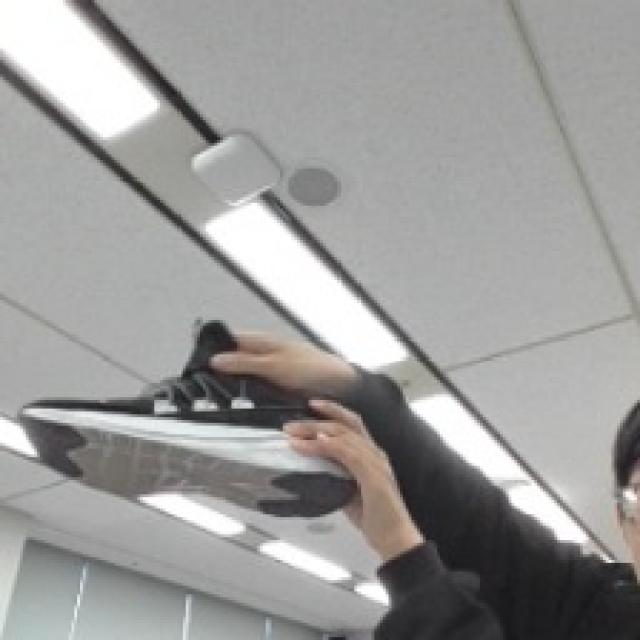shoe: (9, 278, 360, 525)
